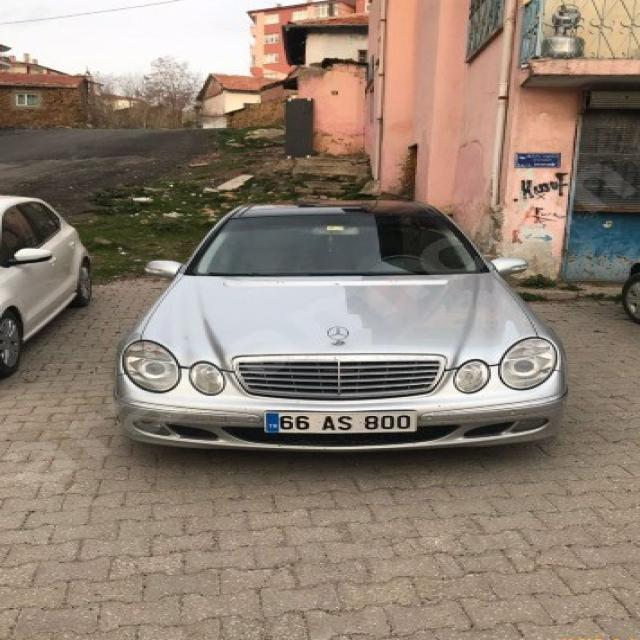license_plate: (264, 411, 417, 433)
